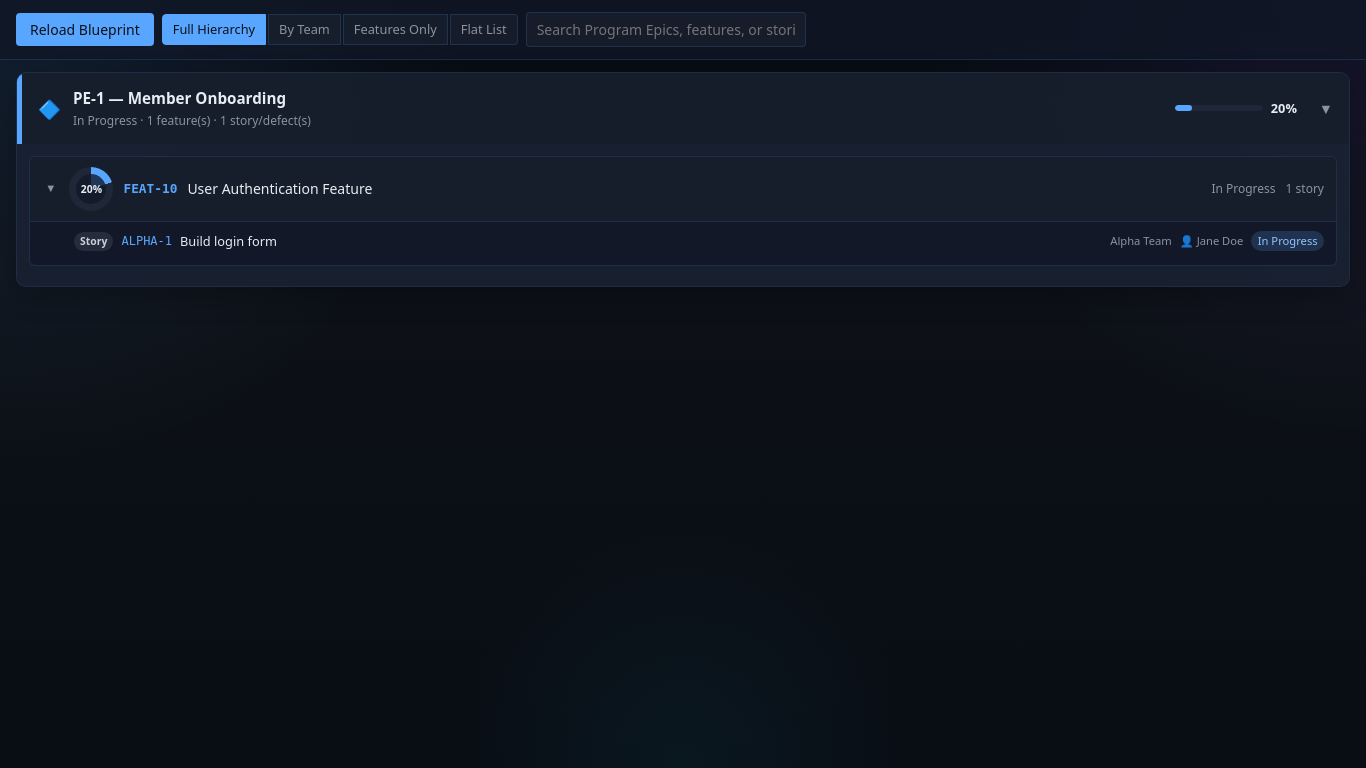
Scenario: BlueprintTab › filters the hierarchy by the search term
The width and height of the screenshot is (1366, 768).
Check: the text "User Authentication Feature" is shown, box [187,179,372,198]
Type "missing" into the field with placeholder "Search Program Epics, features, or stories…".
click(666, 30); type("missing")  # box [526,12,806,47]
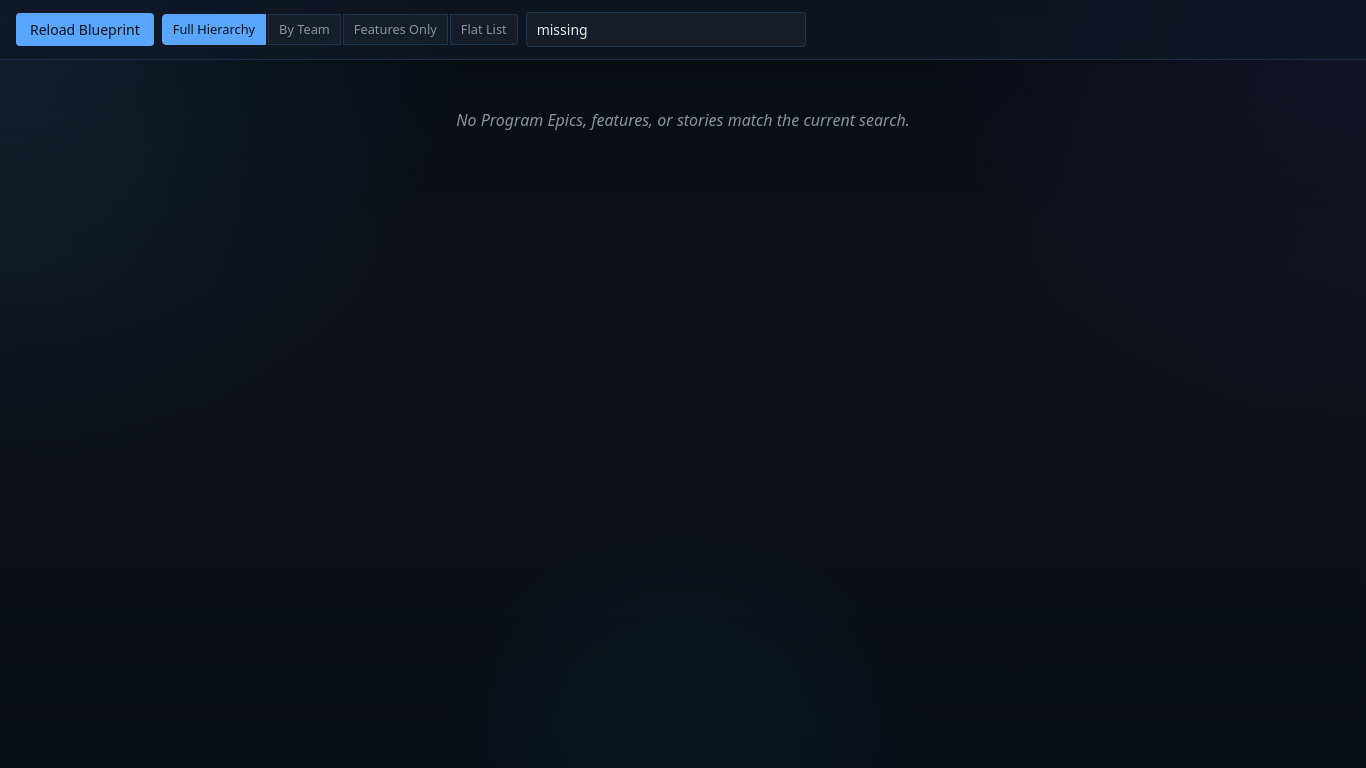
Check: the text "User Authentication Feature" is gone
Check: the text "No Program Epics, features, or stories match" is shown, box [456,109,910,131]
